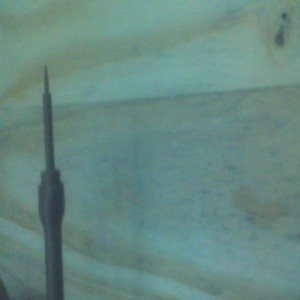solder: (37, 66, 65, 300)
